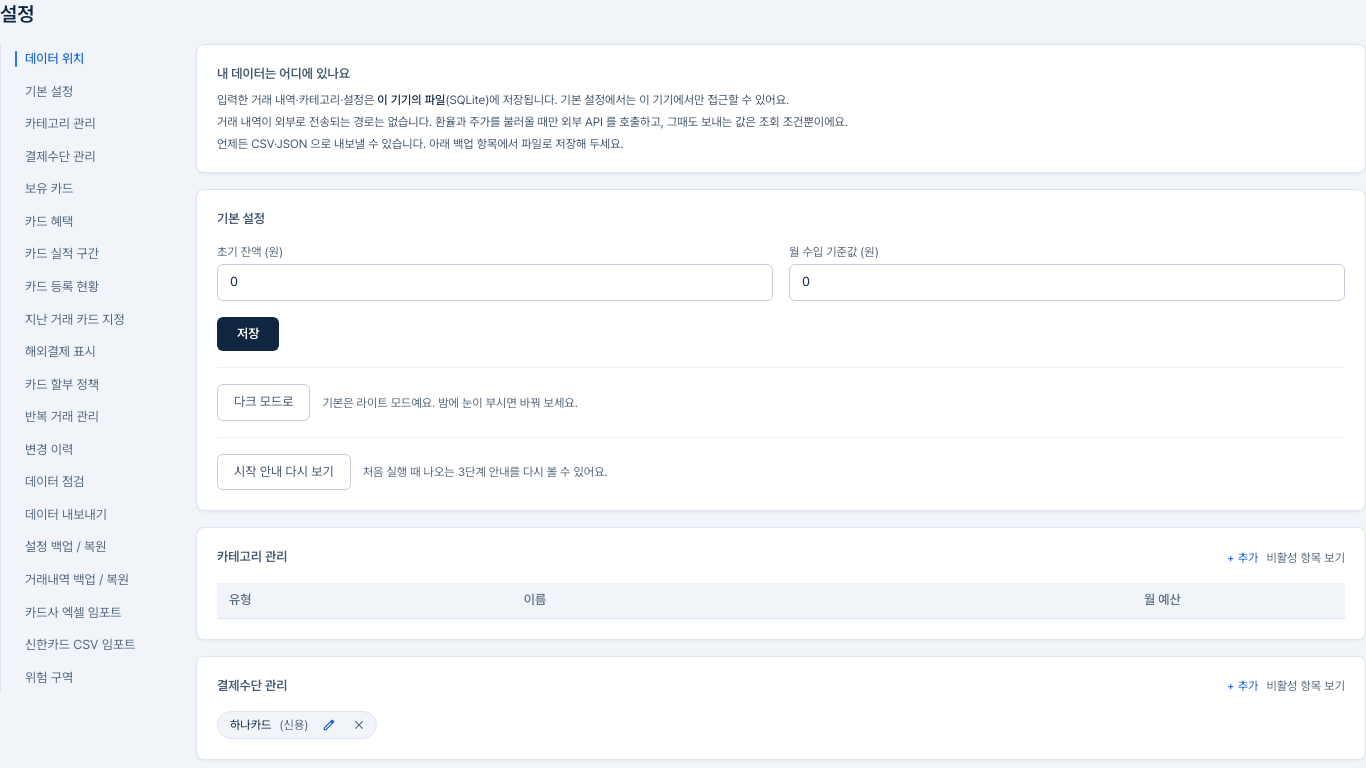
Test case: 비활성화 › 취소하면 아무것도 하지 않는다
The image size is (1366, 768).
Click the button named "비활성화" at coordinates (359, 725), box x1=346 y1=716 x2=372 y2=734
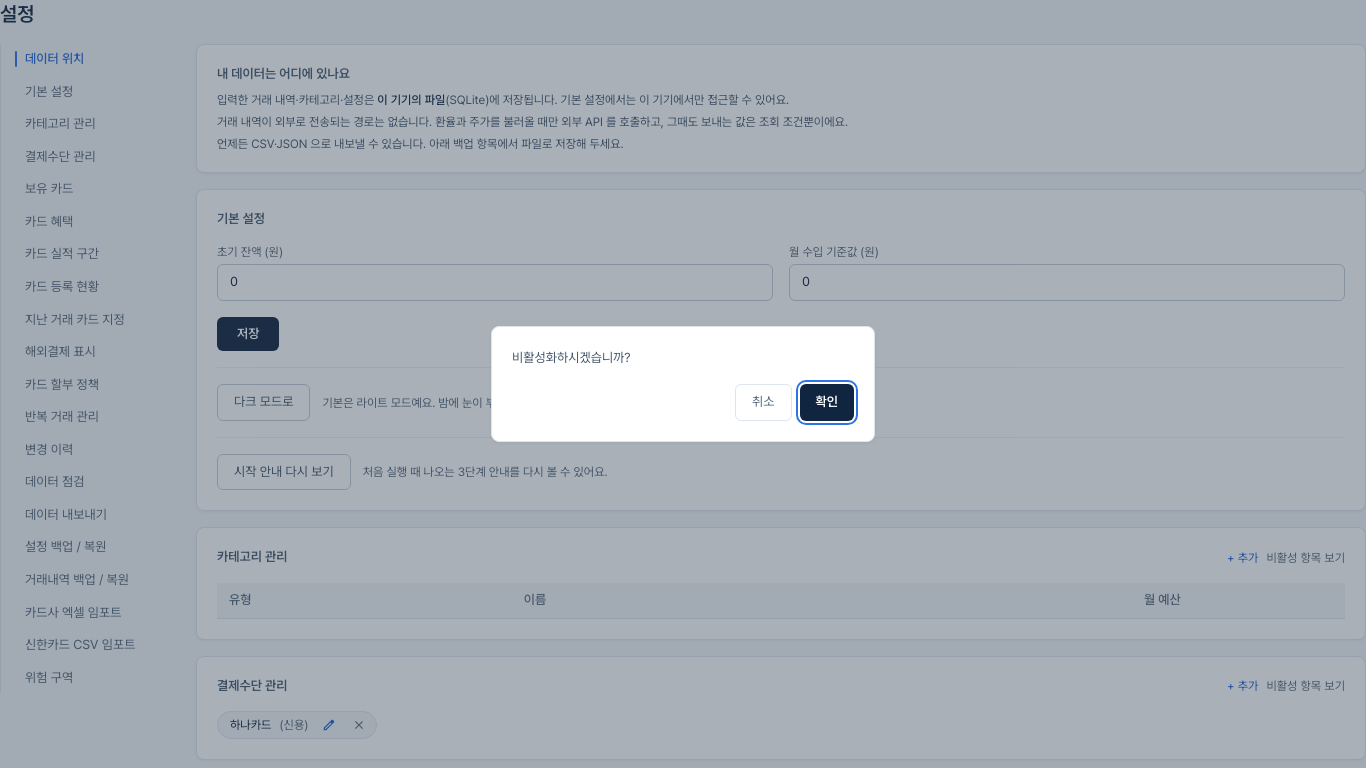
Click the button "취소" at coordinates (763, 403), box x1=735 y1=384 x2=792 y2=421
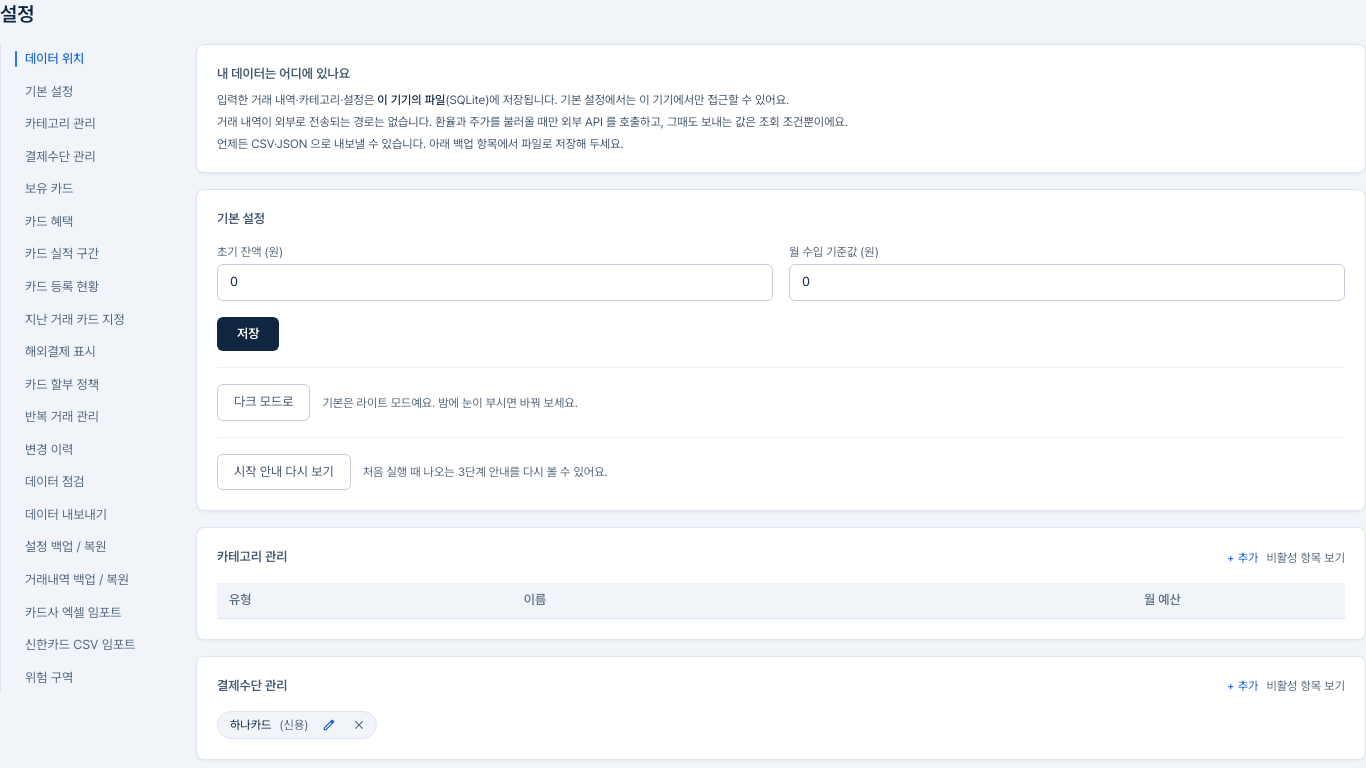
Expected: the dialog is gone
